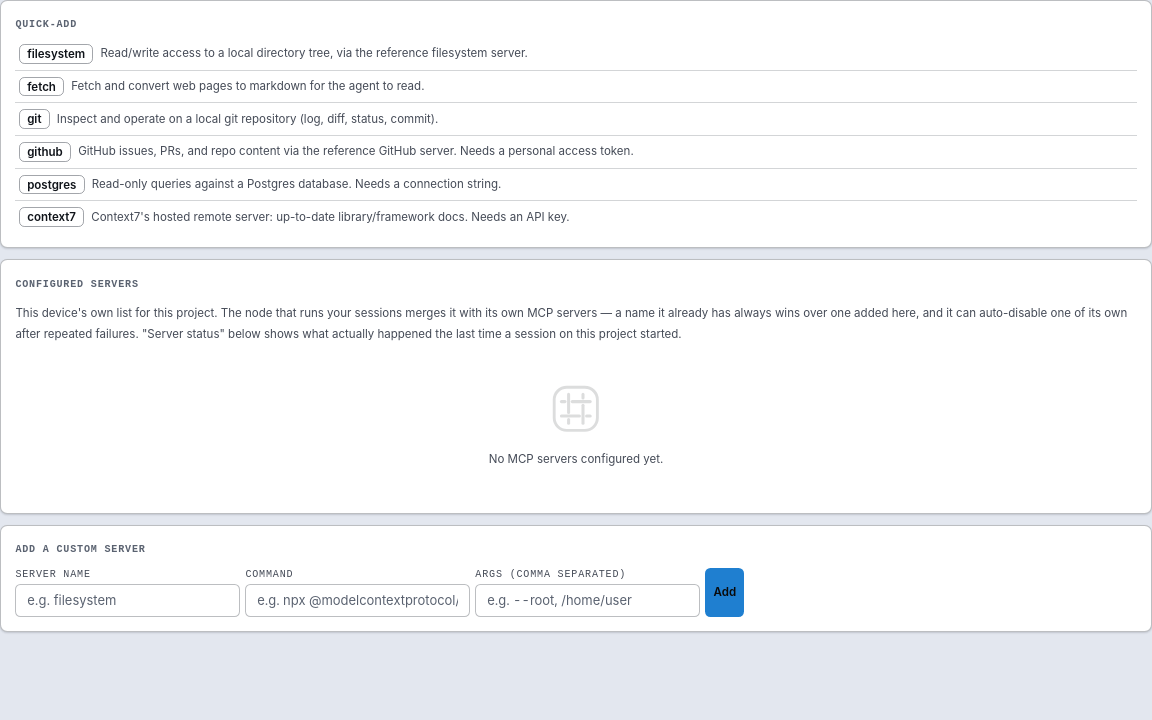
Test: McpServerConfigPanel (issue #188) › adding twice via quick-add shows a clear duplicate error rather than silently no-oping
What coordinates should you click on to do the following:
click the button "filesystem"
I would click on:
 (56, 54)
Its box is [19, 44, 93, 64].
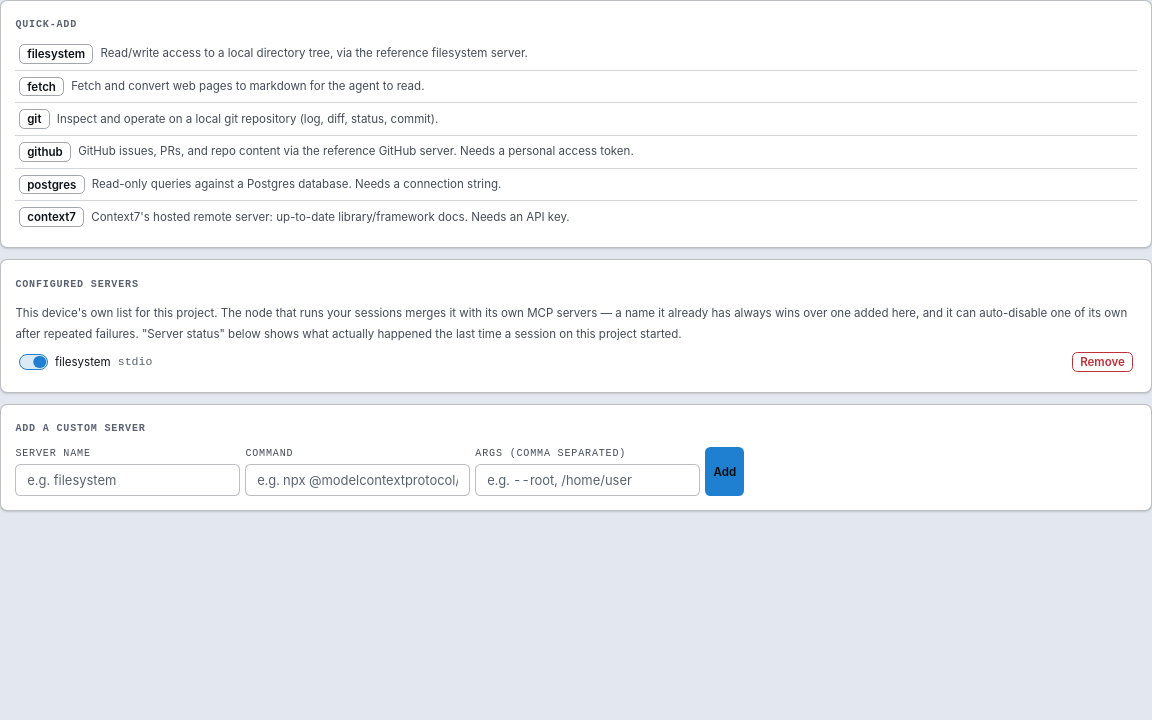
What coordinates should you click on to do the following:
click the button "filesystem"
I would click on:
 (56, 54)
Its box is [19, 44, 93, 64].
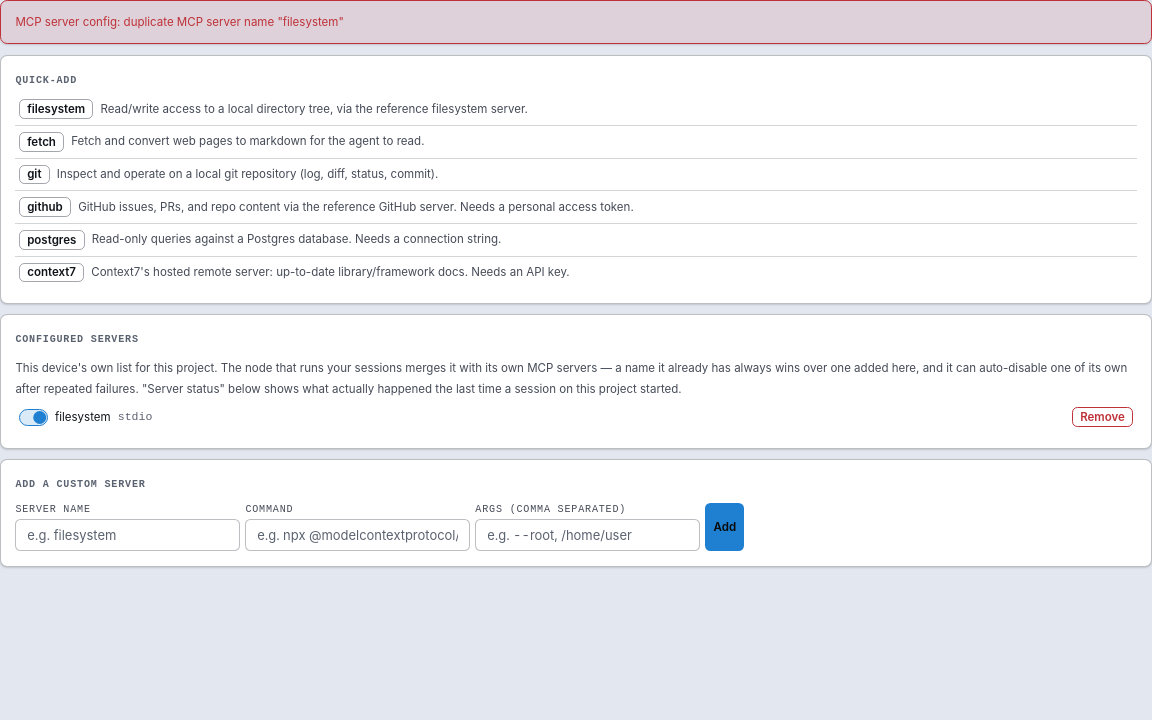
Now the message shows "duplicate", box [15, 15, 344, 29]
